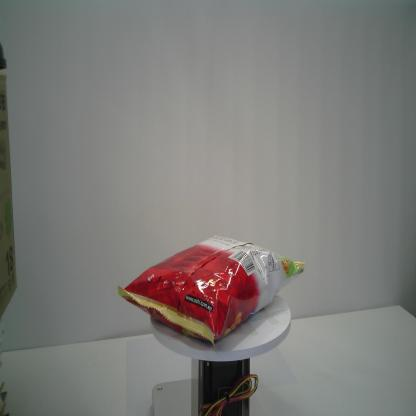Puffed Food: (117, 232, 304, 347)
